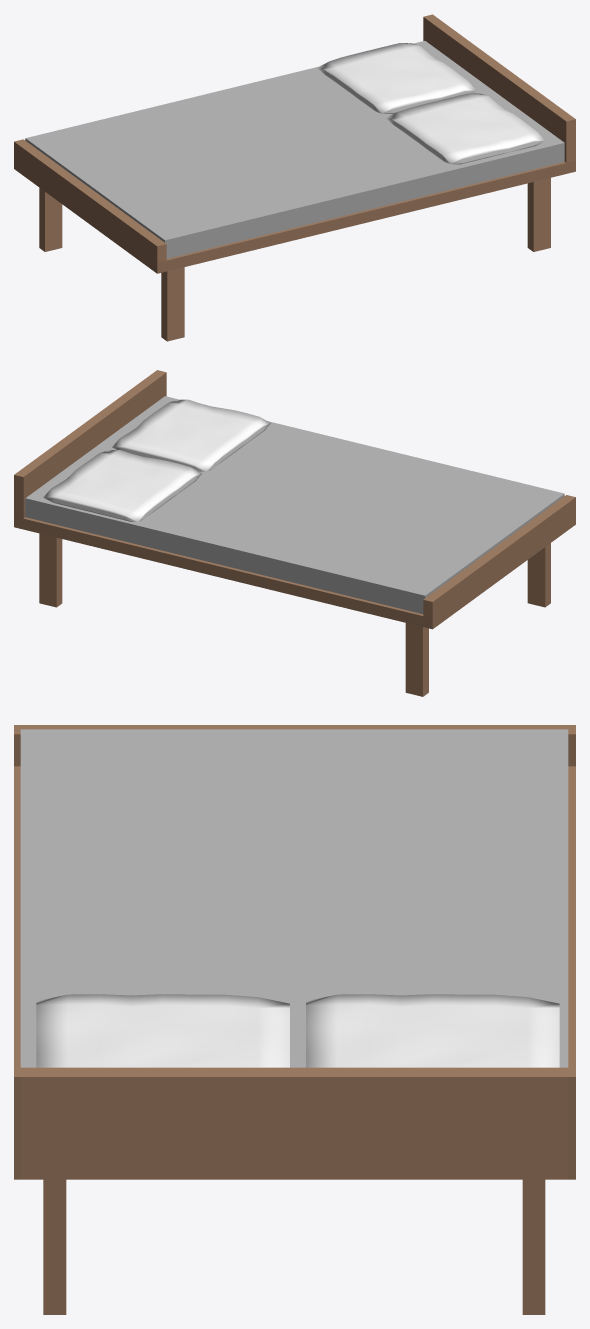
Rendered from bed.fbx.
3 renders of one model, top to bottom at view 1: azimuth 30°, elevation 25°; view 2: azimuth 150°, elevation 25°; view 3: azimuth 270°, elevation 25°, orthographic. The views are drawn at different scales.
Parts seen in each view (by area): view 1: Cube.002; view 2: Cube.002; view 3: Cube.002.
Boxes of the visible parts, left/top/right/bottom form: Cube.002: left=14, top=14, right=575, bottom=341; Cube.002: left=14, top=370, right=575, bottom=696; Cube.002: left=14, top=725, right=575, bottom=1314.
Size of the model in its own units: 3422 by 1014 by 2028.
